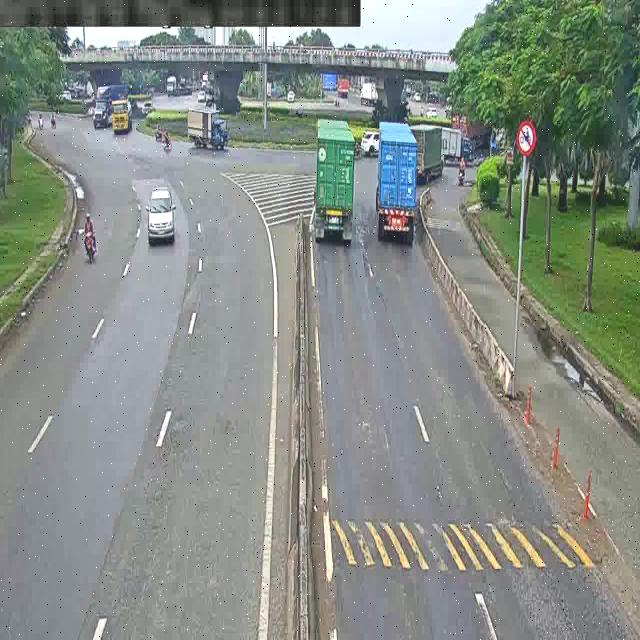car: (145, 183, 175, 244), (361, 125, 386, 150), (194, 86, 218, 111), (136, 95, 159, 116)
motorbike: (74, 213, 107, 265), (156, 126, 181, 157), (457, 157, 474, 188), (34, 111, 47, 131), (149, 121, 161, 142), (47, 112, 56, 132)
truck: (305, 106, 360, 247), (377, 116, 425, 255), (185, 100, 234, 161), (407, 118, 449, 182), (433, 123, 479, 166), (104, 96, 145, 140), (88, 81, 122, 130), (165, 68, 196, 97), (356, 78, 378, 112), (328, 75, 349, 99)
